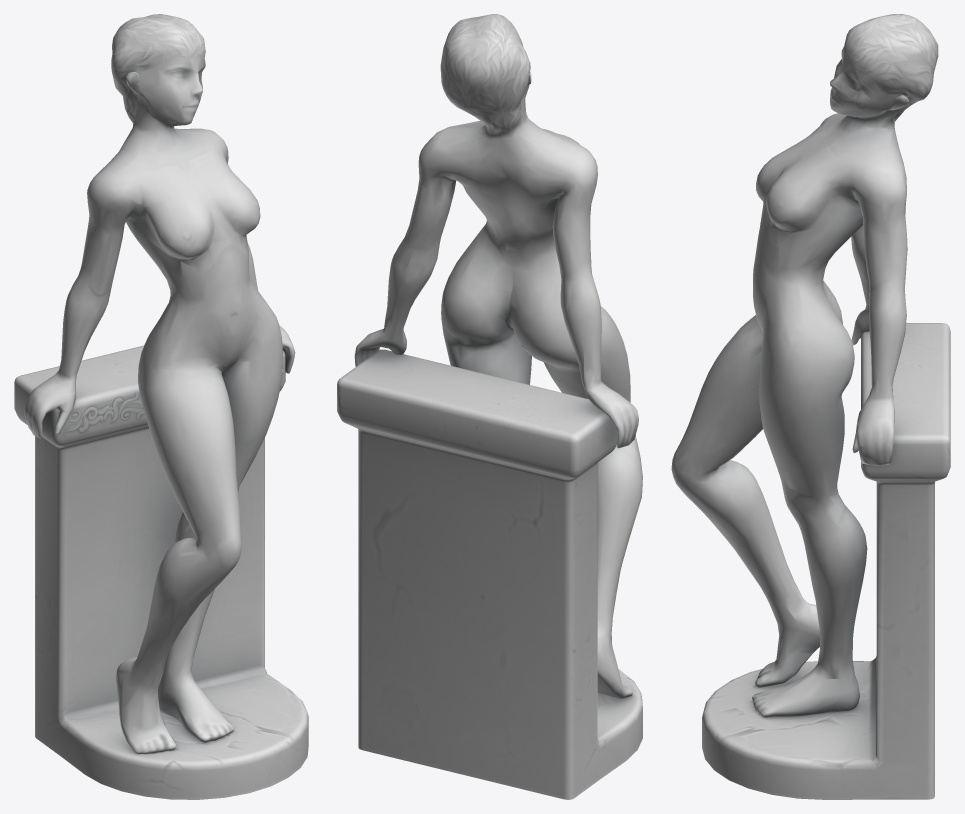
File: ParkStatueGreek04.FBX
3 renders of one model, left to right at view 1: azimuth 30°, elevation 25°; view 2: azimuth 150°, elevation 25°; view 3: azimuth 270°, elevation 25°, orthographic. The views are drawn at different scales.
Visible parts, largest first — view 1: ParkStatueGreek04; view 2: ParkStatueGreek04; view 3: ParkStatueGreek04.
Boxes of the visible parts, <box> form: ParkStatueGreek04: <box>14,14,308,799</box>; ParkStatueGreek04: <box>337,14,642,799</box>; ParkStatueGreek04: <box>671,14,950,799</box>.
Size of what is drawn, in the model's own units: 1.01 by 2.62 by 0.907.
